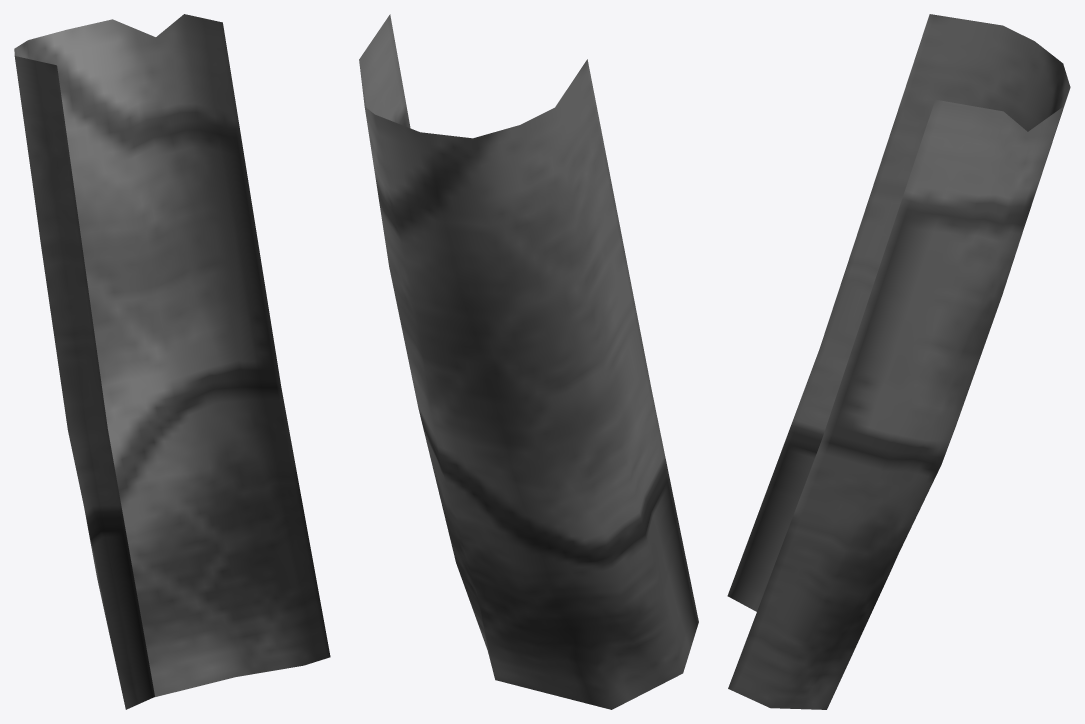
The model's file is health_bar_bot.obj.
3 views of the same model, side by side, from view 1: azimuth 30°, elevation 25°; view 2: azimuth 150°, elevation 25°; view 3: azimuth 270°, elevation 25° (orthographic). The views are drawn at different scales.
Visible parts, largest first — view 1: isaac_clarke_isaac_healthbar.001; view 2: isaac_clarke_isaac_healthbar.001; view 3: isaac_clarke_isaac_healthbar.001.
Boxes of the visible parts, <box> form: isaac_clarke_isaac_healthbar.001: <box>14,14,330,709</box>; isaac_clarke_isaac_healthbar.001: <box>359,14,698,709</box>; isaac_clarke_isaac_healthbar.001: <box>727,14,1070,709</box>.
Size of the model in its own units: 1.04 by 3.24 by 1.6.
1 material, 1 textured.
